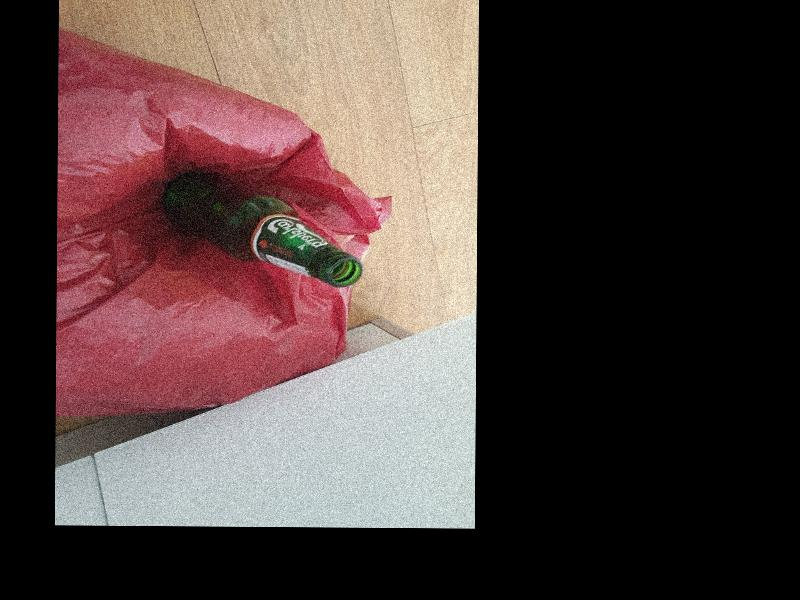Beer: (164, 170, 364, 286)
